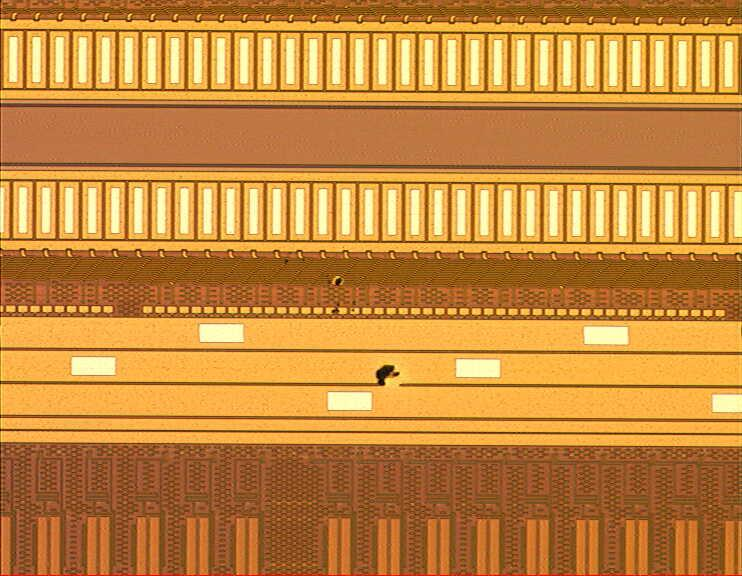PO CONTAMINATION: (279, 253, 405, 393)
